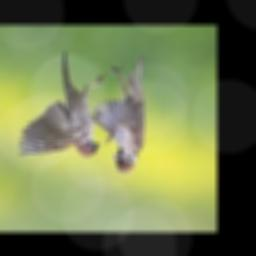Sparrow: (17, 52, 106, 157), (91, 55, 145, 174)
